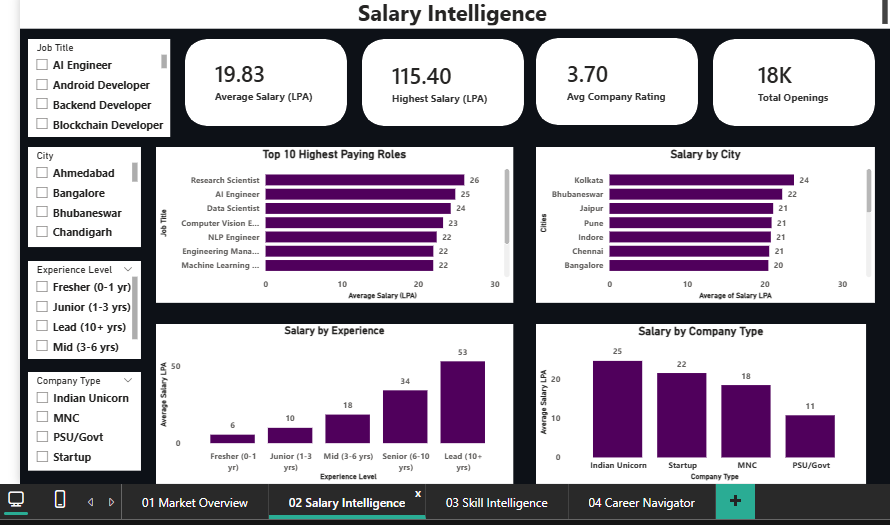

The dashboard page shown, as its layout file describes it:
{"tool":"powerbi","page":{"name":"02 Salary Intelligence","canvas":[1280,720],"ordinal":1},"visuals":[{"type":"textbox","box":[0,0,1279.8,51.4],"z":0},{"type":"shape","box":[242.4,66.1,238,127.8],"z":1000},{"type":"cardVisual","fields":{"Data":["Avg(india_job_market_2024_2026.Salary_LPA)"]},"box":[257.1,74.9,207.2,104.3],"z":2000},{"type":"shape","box":[1018.3,66.1,238,127.8],"z":3000},{"type":"shape","box":[758.2,64.7,238,127.8],"z":4000},{"type":"shape","box":[502.5,66.1,238,127.8],"z":5000},{"type":"cardVisual","fields":{"Data":["Sum(india_job_market_2024_2026.Openings)"]},"box":[1055,76.4,164.6,104.3],"z":6000},{"type":"cardVisual","fields":{"Data":["Avg(india_job_market_2024_2026.Company_Rating)"]},"box":[774.4,73.5,204.2,107.3],"z":7000},{"type":"cardVisual","fields":{"Data":["Max(india_job_market_2024_2026.Salary_LPA)"]},"box":[517.2,77.9,207.2,104.3],"z":8000},{"type":"clusteredBarChart","title":"Top 10 Highest Paying Roles","fields":{"Y":["Avg(india_job_market_2024_2026.Salary_LPA)"],"Category":["india_job_market_2024_2026.Job_Title"]},"box":[199.8,224.8,524.6,229.2],"z":9000},{"type":"clusteredColumnChart","title":"Salary by Experience","fields":{"Category":["india_job_market_2024_2026.Experience_Level"],"Y":["Avg(india_job_market_2024_2026.Salary_LPA)"]},"box":[199.8,484.9,524.6,235.1],"z":10000},{"type":"clusteredColumnChart","title":"Salary by Company Type","fields":{"Category":["india_job_market_2024_2026.Company_Type"],"Y":["Avg(india_job_market_2024_2026.Salary_LPA)"]},"box":[758.2,484.9,484.9,235.1],"z":11000},{"type":"clusteredBarChart","title":"Salary by City","fields":{"Category":["india_job_market_2024_2026.City"],"Y":["Avg(india_job_market_2024_2026.Salary_LPA)"]},"box":[758.2,224.8,498.1,229.2],"z":12000},{"type":"slicer","fields":{"Values":["india_job_market_2024_2026.Job_Title"]},"box":[11.8,66.1,208.7,144],"z":13000},{"type":"slicer","fields":{"Values":["india_job_market_2024_2026.City"]},"box":[11.8,224.8,166,146.9],"z":14000},{"type":"slicer","fields":{"Values":["india_job_market_2024_2026.Experience_Level"]},"box":[11.8,392.3,166,144],"z":15000},{"type":"slicer","fields":{"Values":["india_job_market_2024_2026.Company_Type"]},"box":[11.8,555.4,166,145.5],"z":16000}]}

Visuals, with their boxes in screenshot pixels (x1, y1, x2, y2):
textbox: rect(16, 0, 889, 26)
shape: rect(182, 36, 346, 124)
cardVisual - Avg(india_job_market_2024_2026.Salary_LPA): rect(193, 42, 335, 114)
shape: rect(714, 36, 878, 124)
shape: rect(536, 35, 699, 123)
shape: rect(361, 36, 524, 124)
cardVisual - Sum(india_job_market_2024_2026.Openings): rect(740, 43, 852, 115)
cardVisual - Avg(india_job_market_2024_2026.Company_Rating): rect(547, 41, 687, 115)
cardVisual - Max(india_job_market_2024_2026.Salary_LPA): rect(371, 44, 513, 116)
"Top 10 Highest Paying Roles" clusteredBarChart: rect(153, 145, 513, 302)
"Salary by Experience" clusteredColumnChart: rect(153, 323, 513, 484)
"Salary by Company Type" clusteredColumnChart: rect(536, 323, 869, 484)
"Salary by City" clusteredBarChart: rect(536, 145, 878, 302)
slicer - india_job_market_2024_2026.Job_Title: rect(24, 36, 167, 135)
slicer - india_job_market_2024_2026.City: rect(24, 145, 138, 246)
slicer - india_job_market_2024_2026.Experience_Level: rect(24, 260, 138, 358)
slicer - india_job_market_2024_2026.Company_Type: rect(24, 372, 138, 471)
